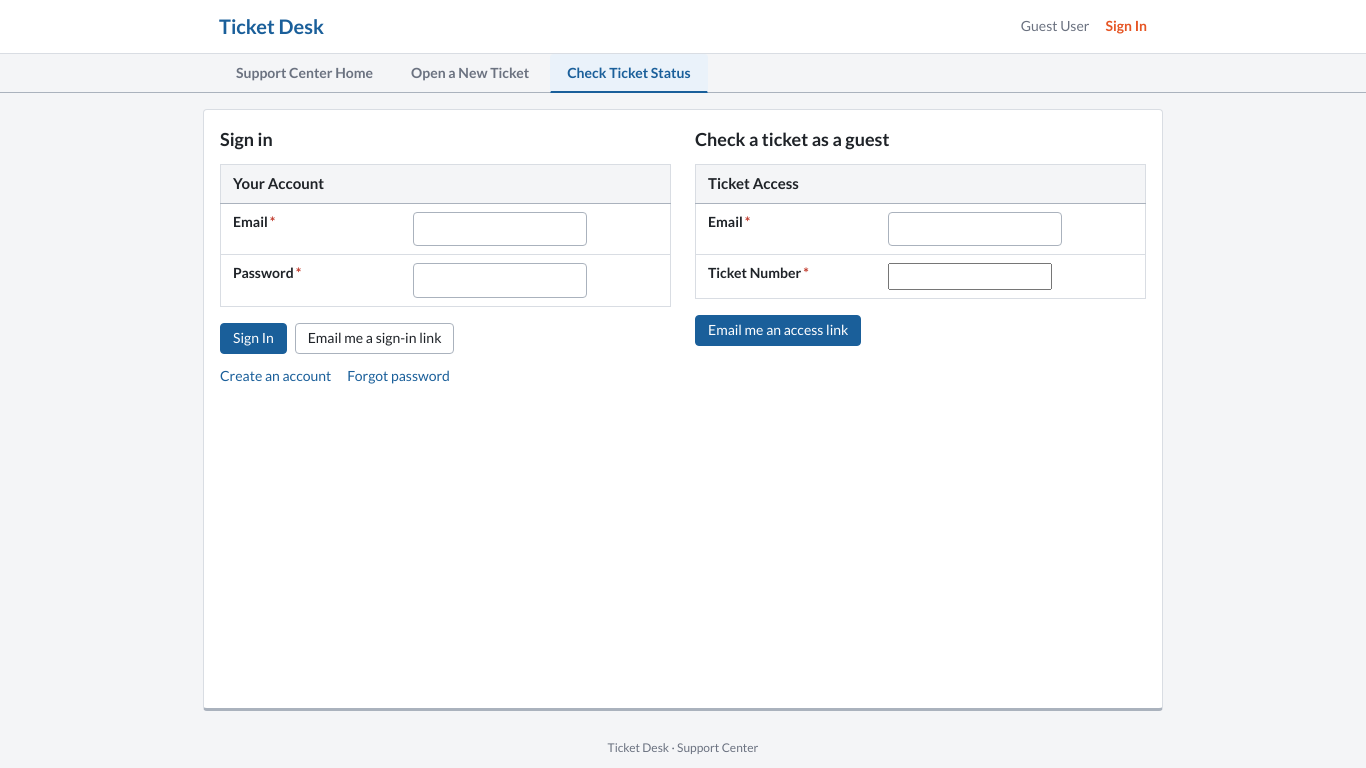
a wrong password shows the generic error
The width and height of the screenshot is (1366, 768).
Expected: the heading "Sign in" is shown, left=220, top=128, right=273, bottom=150
Type "pat@example.test" into the field labelled "Email*" below "Your Account".
click(500, 229); type("pat@example.test")  # box left=412, top=212, right=586, bottom=246
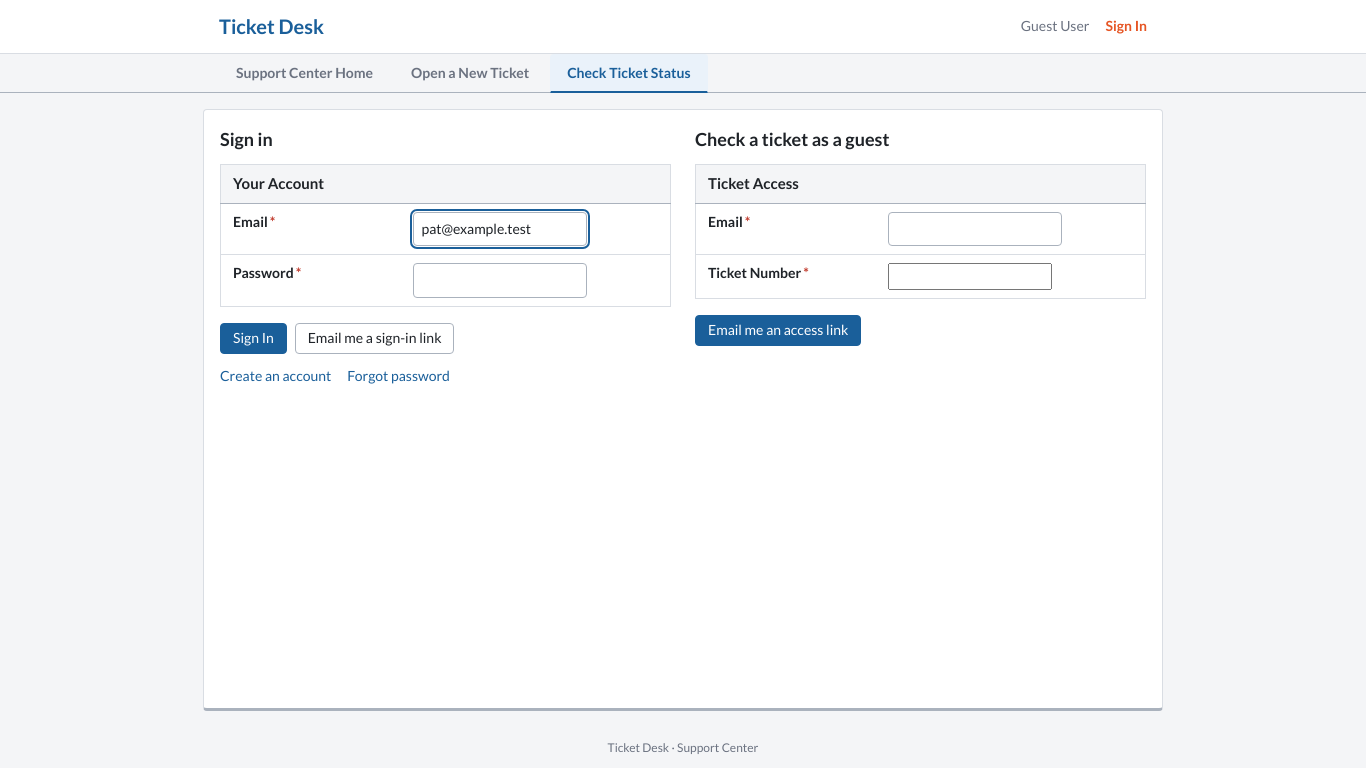
Type "wrong-pass" into the password field labelled "Password*".
click(500, 281); type("wrong-pass")  # box left=412, top=263, right=586, bottom=298
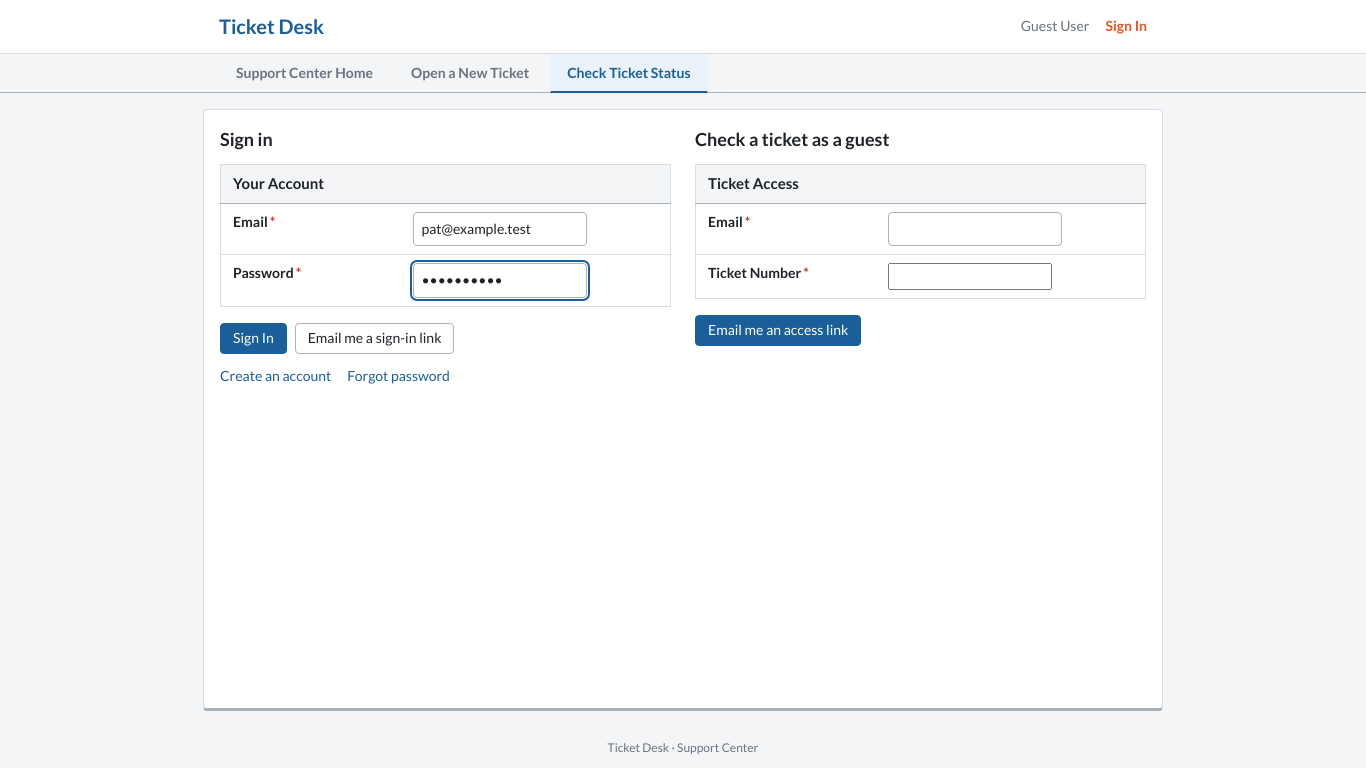
Click the button "Sign In".
click(253, 338)  # box left=220, top=323, right=287, bottom=354
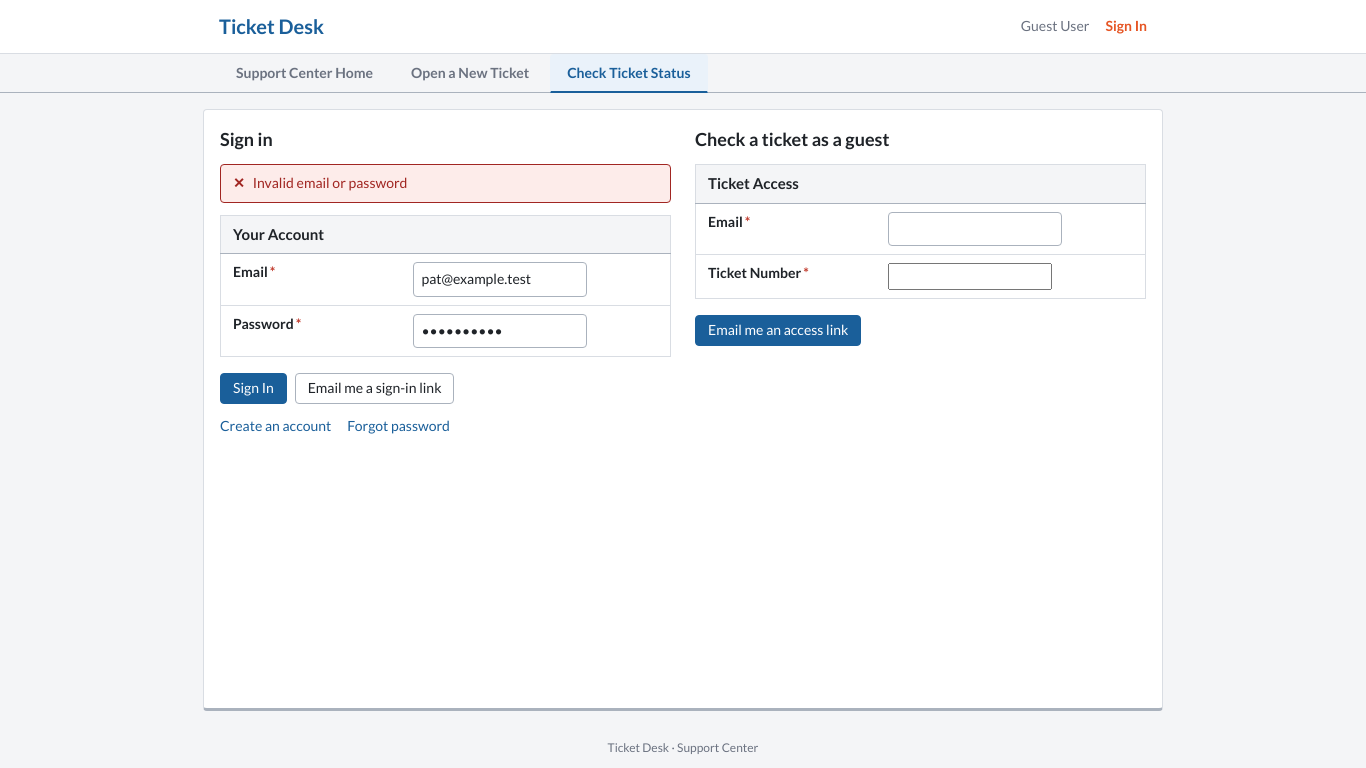
Expected: the heading "Sign in" is shown, left=220, top=128, right=273, bottom=150
Expected: the text "Invalid email or password" is shown, left=253, top=174, right=407, bottom=191
